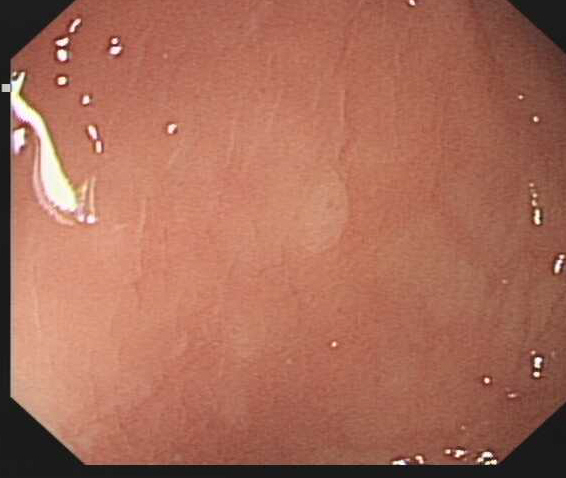others: (288, 163, 350, 257)
